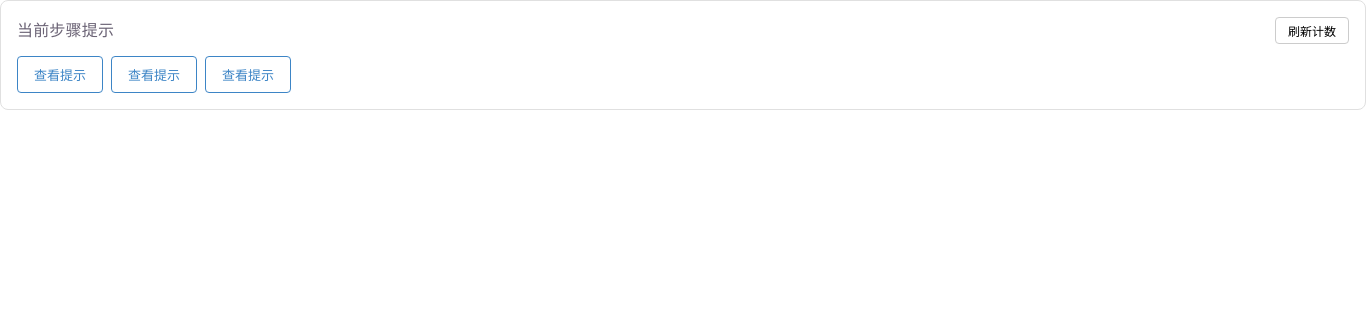
Test: CurrentStepHintPanel › should increment view count on second click
Click the button with test id "hint-btn-hint-task-intro-1" at (60, 74), box [17,56,103,93]
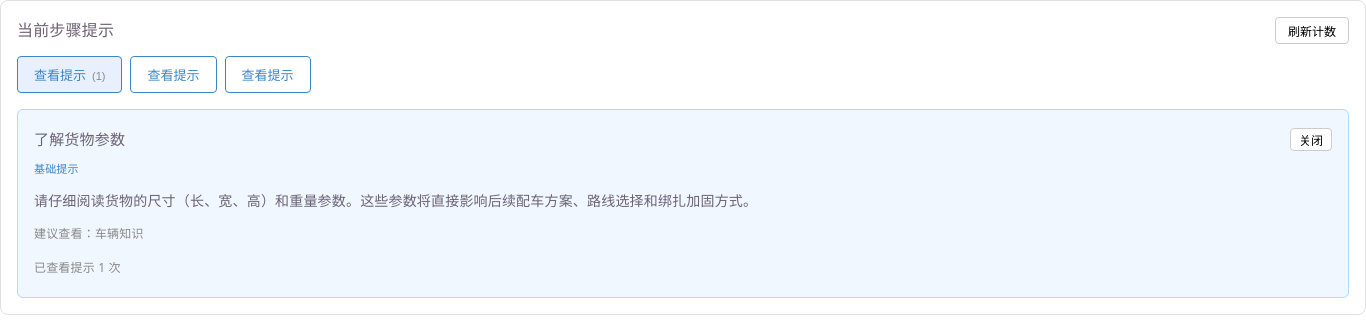
Expected: the text with test id "hint-view-count-hint-task-intro-1" reads "已查看提示 1 次", [34,259,121,276]
Click the button with test id "close-hint-btn" at (1311, 139), box [1290,128,1332,150]
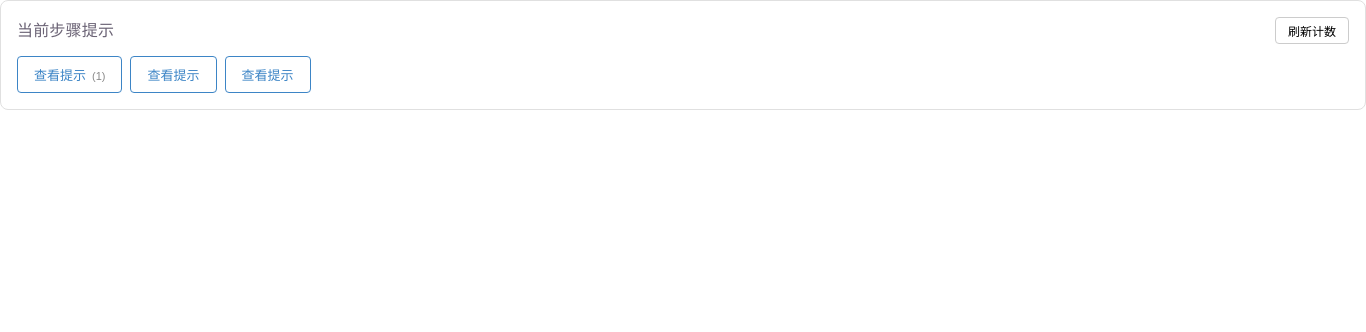
Click the button with test id "hint-btn-hint-task-intro-1" at (70, 74), box [17,56,122,93]
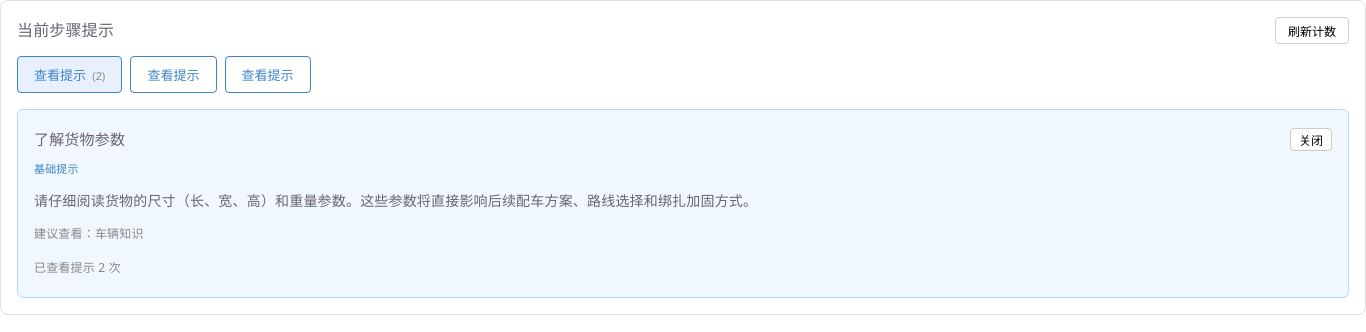
Expected: the text with test id "hint-view-count-hint-task-intro-1" reads "已查看提示 2 次", [34,259,121,276]
